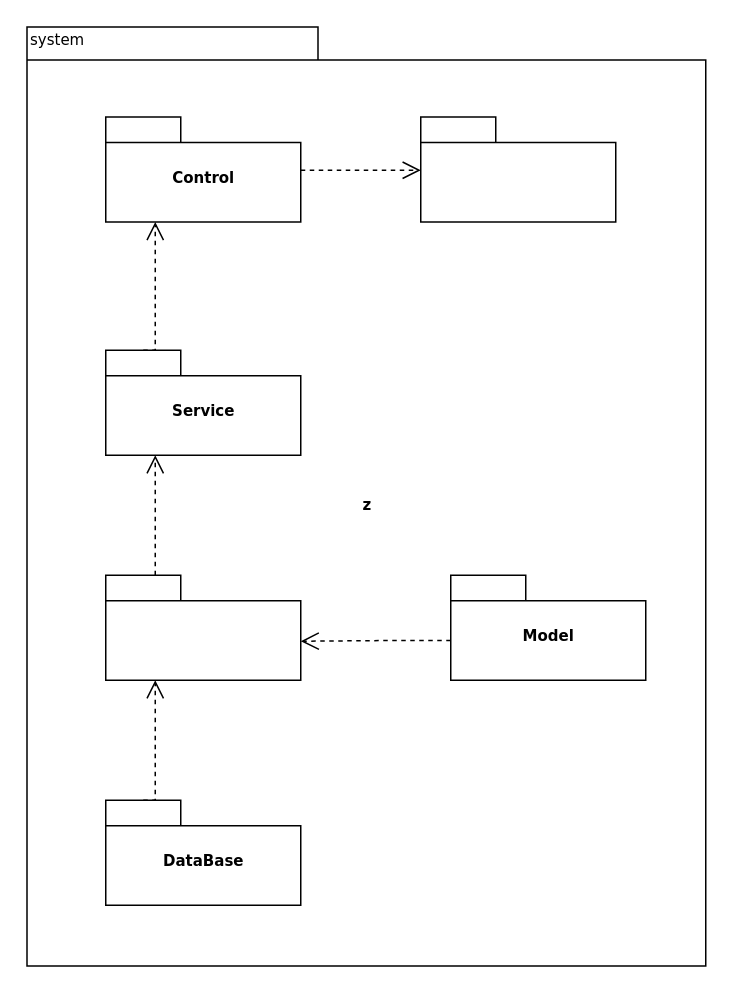
Some shapes in this 732 by 992 pixel diagram are drawn without their labels. Each missing label, with the box of its shape:
Repository: (104, 574, 301, 680)
Viewer: (419, 116, 616, 222)
